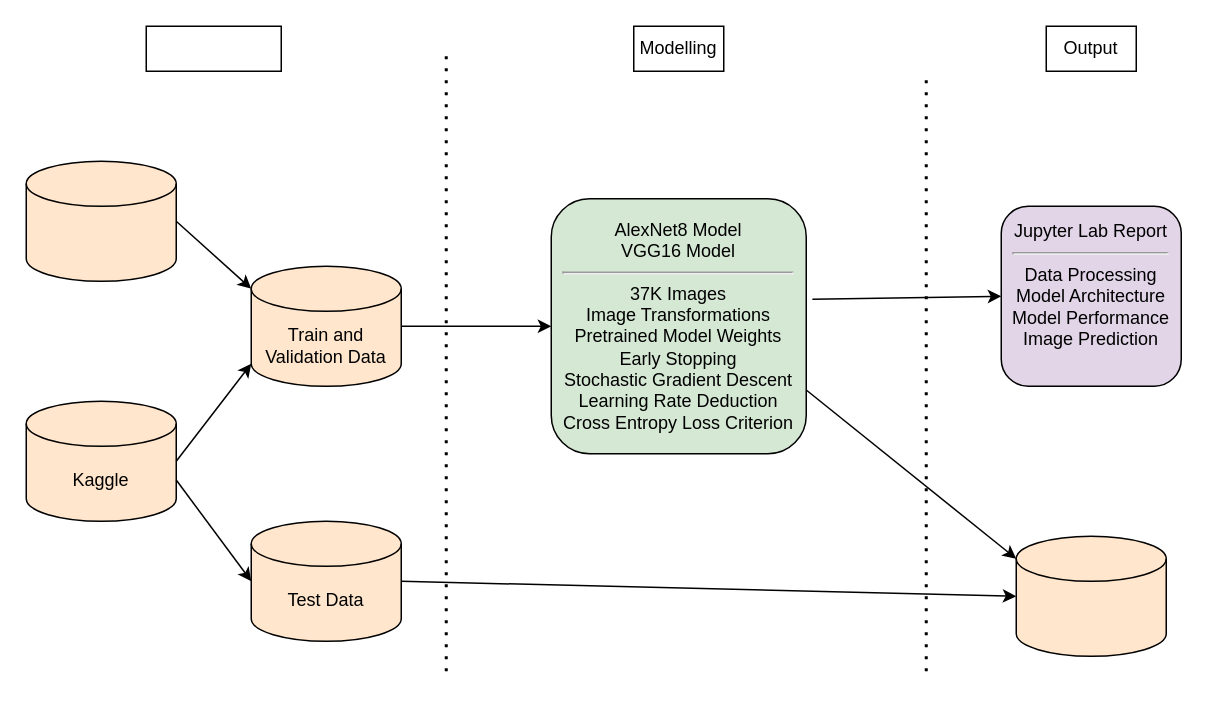
This 1208x701 diagram has some shape labels left out. Each missing label, with the box of its shape:
Data Collection: (145, 25, 281, 71)
freeimages.com: (25, 160, 176, 281)
Submission Data: (1015, 535, 1166, 656)
